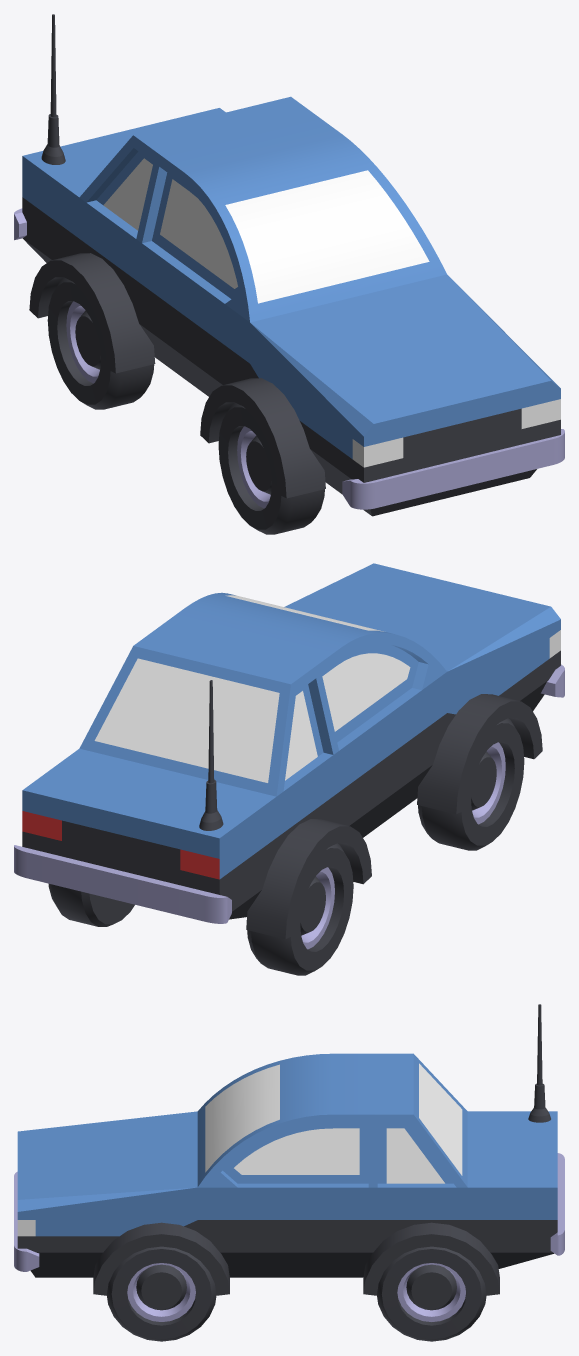
The model's file is Car1.fbx.
The picture shows the model from 3 angles, top to bottom: view 1: azimuth 30°, elevation 25°; view 2: azimuth 150°, elevation 25°; view 3: azimuth 270°, elevation 25°; orthographic projection. The views are drawn at different scales.
Parts seen in each view (by area): view 1: mergedBlocks; view 2: mergedBlocks; view 3: mergedBlocks.
Boxes of the visible parts, x1,y1,x2,y2 form: mergedBlocks: [14, 14, 564, 534]; mergedBlocks: [14, 563, 564, 975]; mergedBlocks: [14, 1004, 564, 1341].
Bounding box in the file's own units: 130 × 161 × 306.
